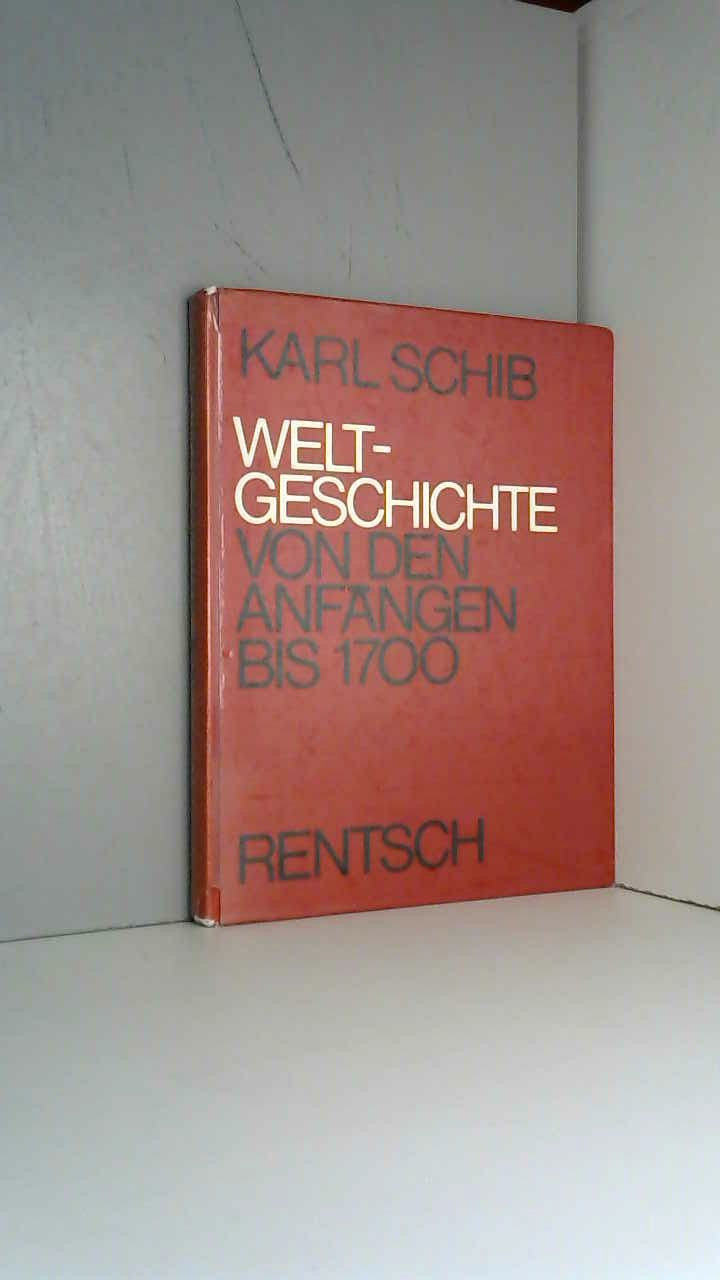book: (160, 260, 720, 943)
